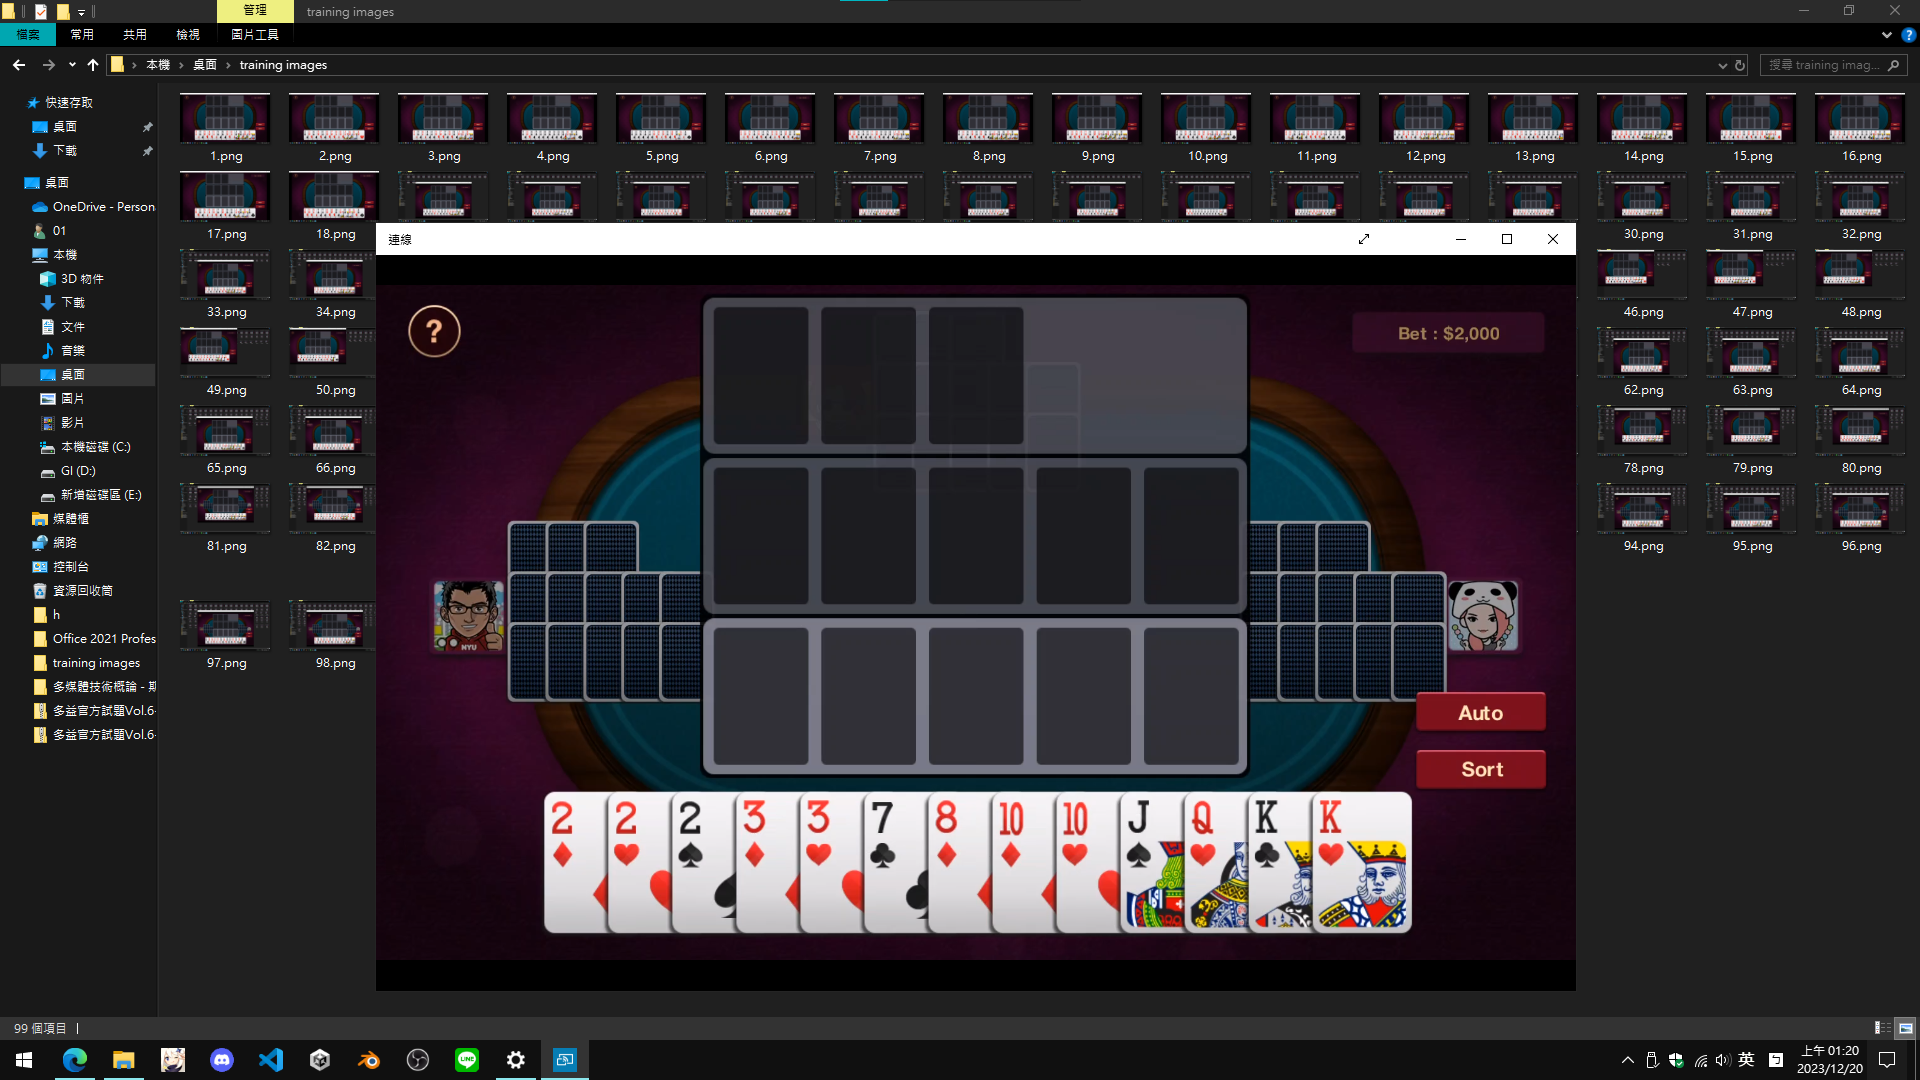10D: (996, 798, 1026, 870)
10H: (1060, 798, 1091, 870)
2D: (547, 798, 578, 870)
2H: (611, 798, 644, 869)
2S: (675, 798, 708, 872)
3D: (741, 796, 770, 870)
3H: (802, 796, 835, 870)
7C: (868, 799, 898, 873)
8D: (932, 798, 961, 872)
JS: (1125, 795, 1154, 873)
KC: (1253, 796, 1280, 872)
KH: (1315, 795, 1346, 869)
QH: (1188, 796, 1218, 870)
